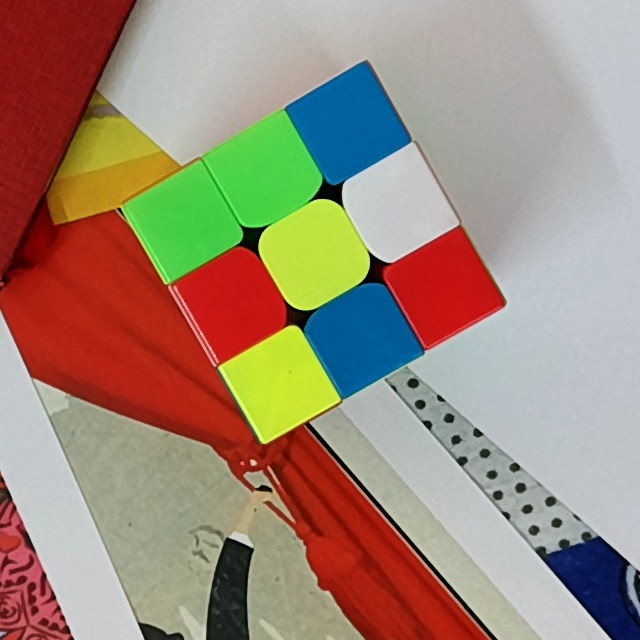tile: (363, 173, 432, 239), (314, 92, 381, 158), (284, 219, 346, 289), (201, 268, 265, 335), (153, 188, 218, 253), (234, 139, 298, 205), (332, 303, 396, 368), (414, 254, 477, 318), (248, 352, 313, 414)
